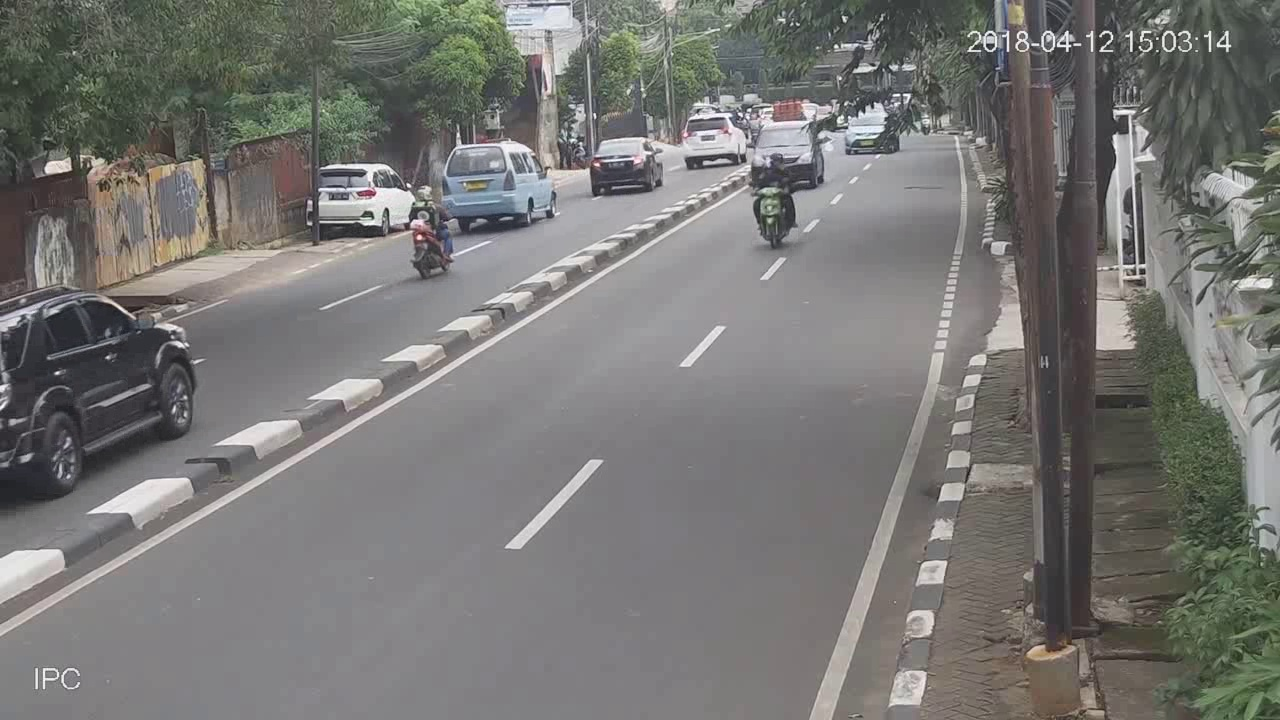car: (1, 279, 208, 505), (442, 140, 567, 229), (308, 156, 403, 238), (677, 108, 748, 173), (589, 135, 664, 196)
motorcycle: (407, 183, 459, 283), (753, 154, 797, 251)
